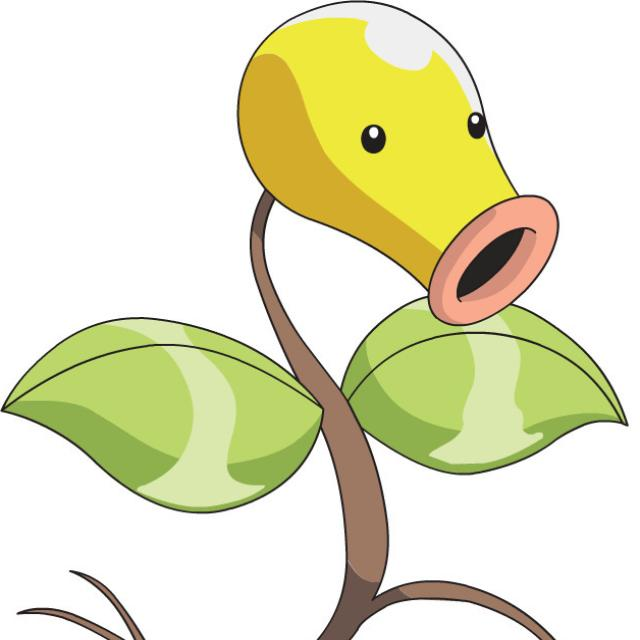Bellsprout: (9, 0, 635, 621)
